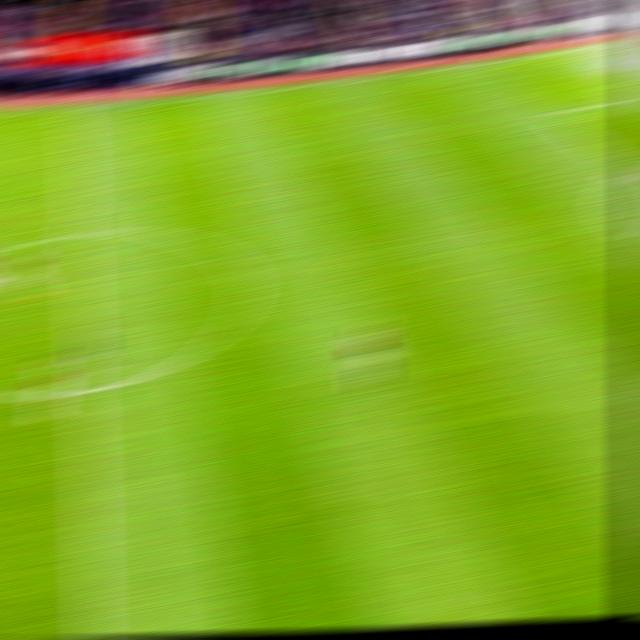bigarea_top_inner: (537, 106, 567, 121)
halfcircle_bottom: (68, 378, 103, 405)
halfcircle_top: (59, 219, 100, 246)
midline_top_intersection: (56, 97, 92, 121)
top_arc_area_intersection: (610, 163, 639, 179)
